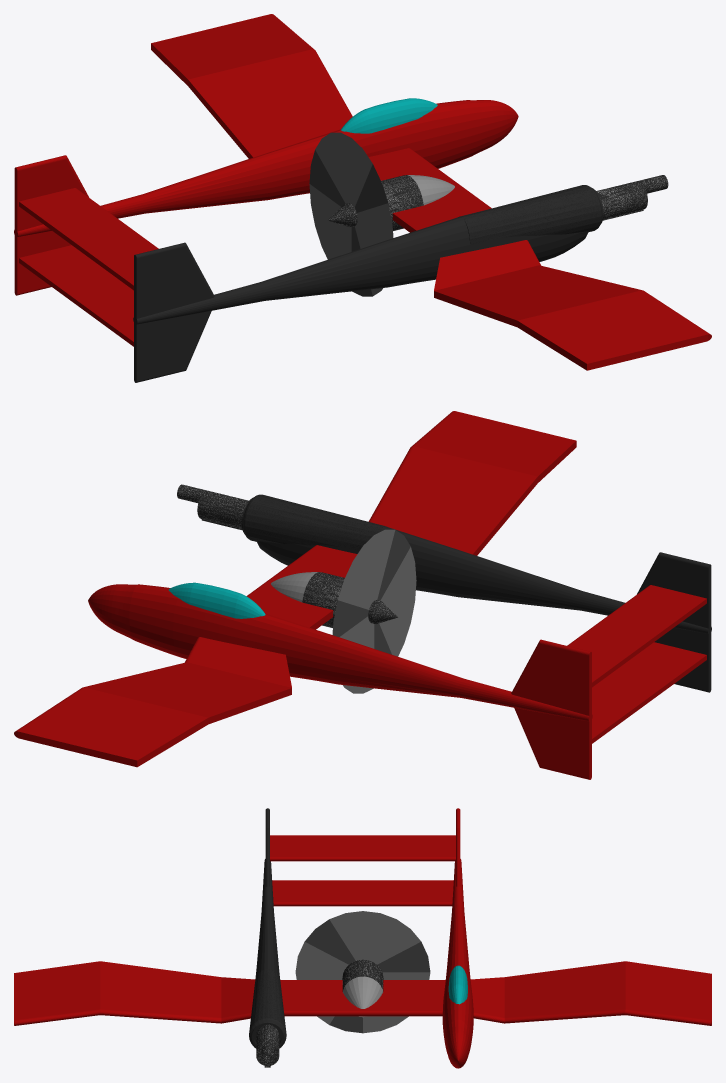
3 views of the same model, one above another, from view 1: azimuth 30°, elevation 25°; view 2: azimuth 150°, elevation 25°; view 3: azimuth 270°, elevation 25° (orthographic). The views are drawn at different scales.
Visible parts, largest first — view 1: mesh7.001_mesh7-geometry, mesh2.001_mesh2-geometry, mesh1.001_mesh1-geometry, mesh8_mesh8-geometry, mesh5.001_mesh5-geometry, mesh6.001_mesh6-geometry, mesh3.001_mesh3-geometry, mesh4.001_mesh4-geometry; view 2: mesh7.001_mesh7-geometry, mesh1.001_mesh1-geometry, mesh2.001_mesh2-geometry, mesh8_mesh8-geometry, mesh5.001_mesh5-geometry, mesh6.001_mesh6-geometry, mesh3.001_mesh3-geometry, mesh4.001_mesh4-geometry; view 3: mesh7.001_mesh7-geometry, mesh8_mesh8-geometry, mesh5.001_mesh5-geometry, mesh6.001_mesh6-geometry, mesh2.001_mesh2-geometry, mesh1.001_mesh1-geometry, mesh3.001_mesh3-geometry, mesh4.001_mesh4-geometry.
Part boxes in pixels (x1,y1,x2,y2): mesh7.001_mesh7-geometry: (151,14,711,370); mesh2.001_mesh2-geometry: (133,175,668,382); mesh1.001_mesh1-geometry: (14,100,518,295); mesh8_mesh8-geometry: (309,132,393,296); mesh5.001_mesh5-geometry: (19,188,158,290); mesh6.001_mesh6-geometry: (19,245,133,346); mesh3.001_mesh3-geometry: (328,175,454,230); mesh4.001_mesh4-geometry: (341,98,437,133); mesh7.001_mesh7-geometry: (14,411,576,767); mesh1.001_mesh1-geometry: (88,584,592,779); mesh2.001_mesh2-geometry: (177,484,711,692); mesh8_mesh8-geometry: (332,529,416,693); mesh5.001_mesh5-geometry: (567,585,706,687); mesh6.001_mesh6-geometry: (592,642,706,743); mesh3.001_mesh3-geometry: (271,572,397,627); mesh4.001_mesh4-geometry: (168,582,265,618); mesh7.001_mesh7-geometry: (14,961,711,1025); mesh8_mesh8-geometry: (295,911,430,1033); mesh5.001_mesh5-geometry: (270,835,455,861); mesh6.001_mesh6-geometry: (272,880,453,906); mesh2.001_mesh2-geometry: (249,808,286,1067); mesh1.001_mesh1-geometry: (442,808,473,1068); mesh3.001_mesh3-geometry: (342,959,383,1017); mesh4.001_mesh4-geometry: (448,965,467,1004).
Size of the model in its own units: 0.5655 by 0.1565 by 0.8098.
